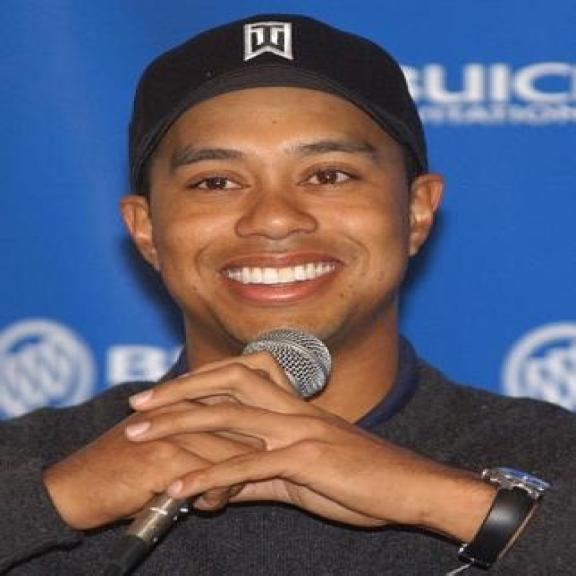face: (107, 87, 446, 356)
